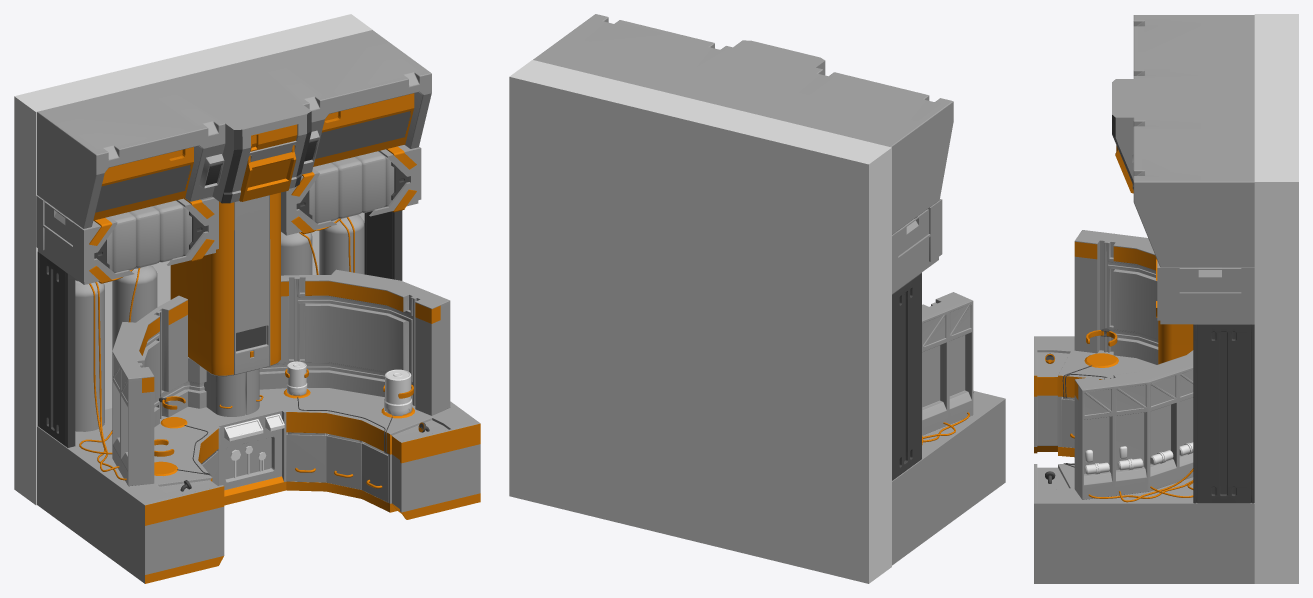
Rendered from PharmacologyDispenser.fbx.
The picture shows the model from 3 angles, left to right: view 1: azimuth 30°, elevation 25°; view 2: azimuth 150°, elevation 25°; view 3: azimuth 270°, elevation 25°; orthographic projection. The views are drawn at different scales.
Visible parts, largest first — view 1: Plane.002, Cube.015, Cylinder.001, Cube.007, Cube, Cube.002, Cube.004, Cube.018, Cube.001, Sphere, Circle.002, Circle.001 (+15 smaller); view 2: Cube.007, Cube.015, Plane.002, Circle.002, Cube.018, Cube.002, Cube.001; view 3: Plane.002, Cube.007, Cube.015, Circle.002, Cube.002, Cylinder.001, Cube.018, Cube.001, Cube, Cylinder.002, Circle.001, Circle.003.
Part boxes in pixels (x1,y1,x2,y2): Plane.002: [37, 388, 480, 583]; Cube.015: [37, 30, 431, 228]; Cylinder.001: [126, 275, 440, 484]; Cube.007: [14, 14, 372, 505]; Cube: [170, 192, 280, 376]; Cube.002: [37, 210, 402, 447]; Cube.004: [107, 151, 394, 272]; Cube.018: [166, 61, 311, 203]; Cube.001: [36, 145, 421, 284]; Sphere: [75, 214, 364, 431]; Circle.002: [112, 269, 450, 486]; Circle.001: [201, 432, 388, 502]; Cube.007: [509, 60, 891, 583]; Cube.015: [533, 14, 953, 234]; Plane.002: [892, 390, 1005, 565]; Circle.002: [922, 296, 973, 435]; Cube.018: [670, 40, 825, 113]; Cube.002: [892, 272, 921, 480]; Cube.001: [892, 199, 942, 293]; Plane.002: [1034, 336, 1254, 583]; Cube.007: [1254, 14, 1298, 583]; Cube.015: [1133, 15, 1254, 267]; Circle.002: [1078, 230, 1193, 499]; Cube.002: [1193, 324, 1254, 503]; Cylinder.001: [1074, 235, 1193, 493]; Cube.018: [1112, 79, 1254, 189]; Cube.001: [1157, 261, 1254, 324]; Cube: [1158, 320, 1193, 364]; Cylinder.002: [1084, 442, 1193, 474]; Circle.001: [1061, 397, 1074, 447]; Circle.003: [1084, 353, 1118, 367].
Bounding box in the file's own units: 450 × 500 × 299.
